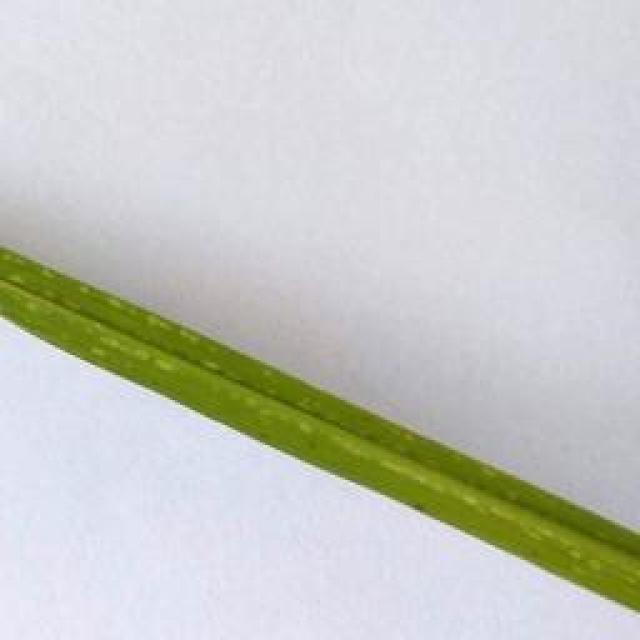Healthy-Plant: (0, 245, 640, 613)
